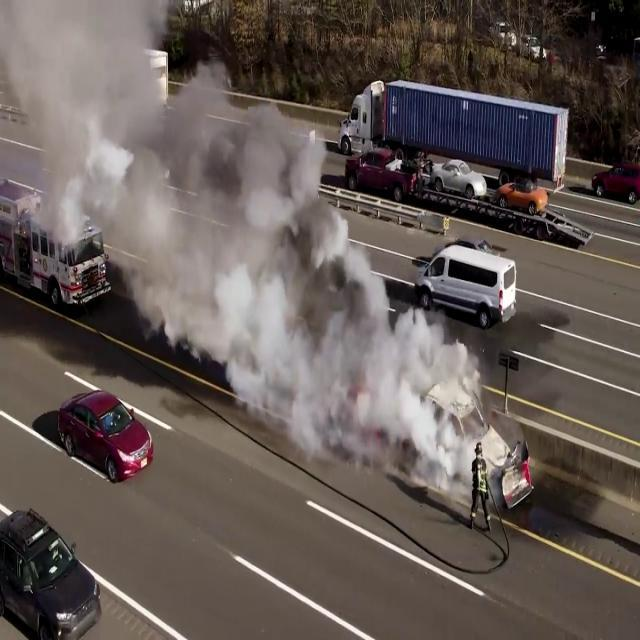Smoke: (1, 2, 485, 474)
